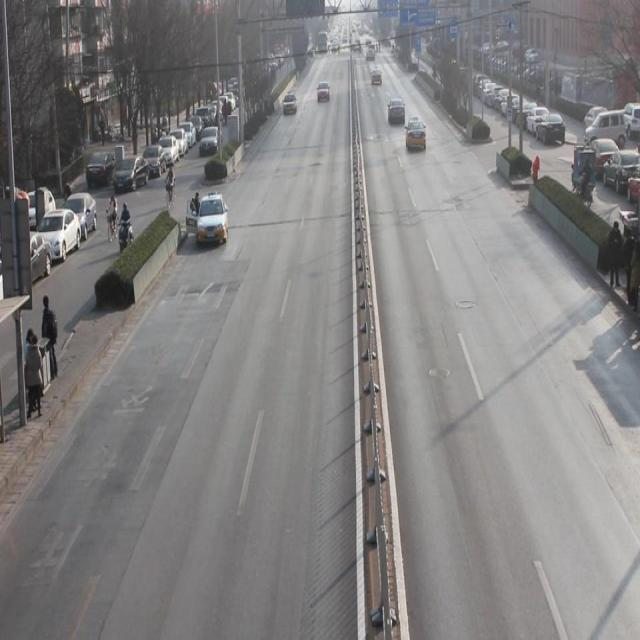car: (194, 190, 229, 251), (406, 119, 427, 154), (388, 97, 406, 125), (317, 78, 333, 107), (282, 86, 296, 118)
